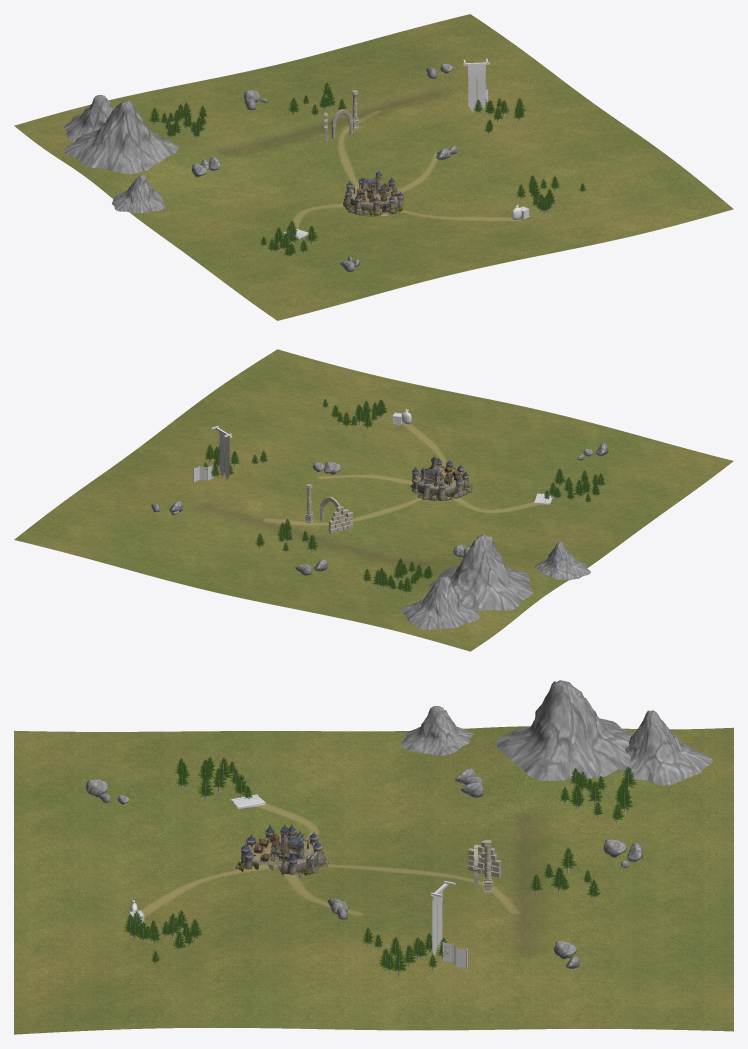
Rendered from ZoneOneSectorCandidate.glb.
The picture shows the model from 3 angles, top to bottom: view 1: azimuth 30°, elevation 25°; view 2: azimuth 150°, elevation 25°; view 3: azimuth 270°, elevation 25°; orthographic projection. The views are drawn at different scales.
Visible parts, largest first — view 1: ZoneOne continuous prairie source, Mountain01_LOD0.001, Eldoria_MultiPiece_Group_05, Mountain01_LOD0.003, Mountain01_LOD0.002, canvas_on_wall; view 2: ZoneOne continuous prairie source, Mountain01_LOD0.001, Mountain01_LOD0.002, Eldoria_MultiPiece_Group_05, Mountain01_LOD0.003, canvas_on_wall; view 3: ZoneOne continuous prairie source, Mountain01_LOD0.001, Mountain01_LOD0.002, Eldoria_MultiPiece_Group_05, Mountain01_LOD0.003, canvas_on_wall, Wall_Broken.
Boxes of the visible parts, x1,y1,x2,y2 form: ZoneOne continuous prairie source: (14,14,733,320); Mountain01_LOD0.001: (64,100,178,174); Eldoria_MultiPiece_Group_05: (343,170,404,216); Mountain01_LOD0.003: (112,175,165,213); Mountain01_LOD0.002: (63,95,114,141); canvas_on_wall: (463,58,489,111); ZoneOne continuous prairie source: (14,349,733,651); Mountain01_LOD0.001: (429,534,533,610); Mountain01_LOD0.002: (401,576,479,629); Eldoria_MultiPiece_Group_05: (410,455,472,500); Mountain01_LOD0.003: (534,541,590,580); canvas_on_wall: (211,426,231,480); ZoneOne continuous prairie source: (14,726,733,1034); Mountain01_LOD0.001: (496,680,633,780); Mountain01_LOD0.002: (619,710,712,785); Eldoria_MultiPiece_Group_05: (235,824,328,877); Mountain01_LOD0.003: (400,706,473,755); canvas_on_wall: (430,881,455,956); Wall_Broken: (468,840,501,877).
Bounding box in the file's own units: 245 × 32.68 × 240.
17 materials, 6 textured.
